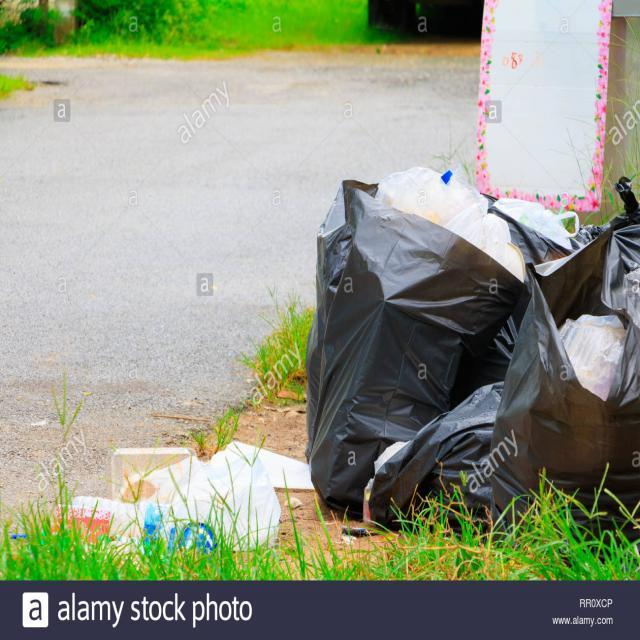garbage: (312, 162, 638, 566), (54, 438, 311, 557)
